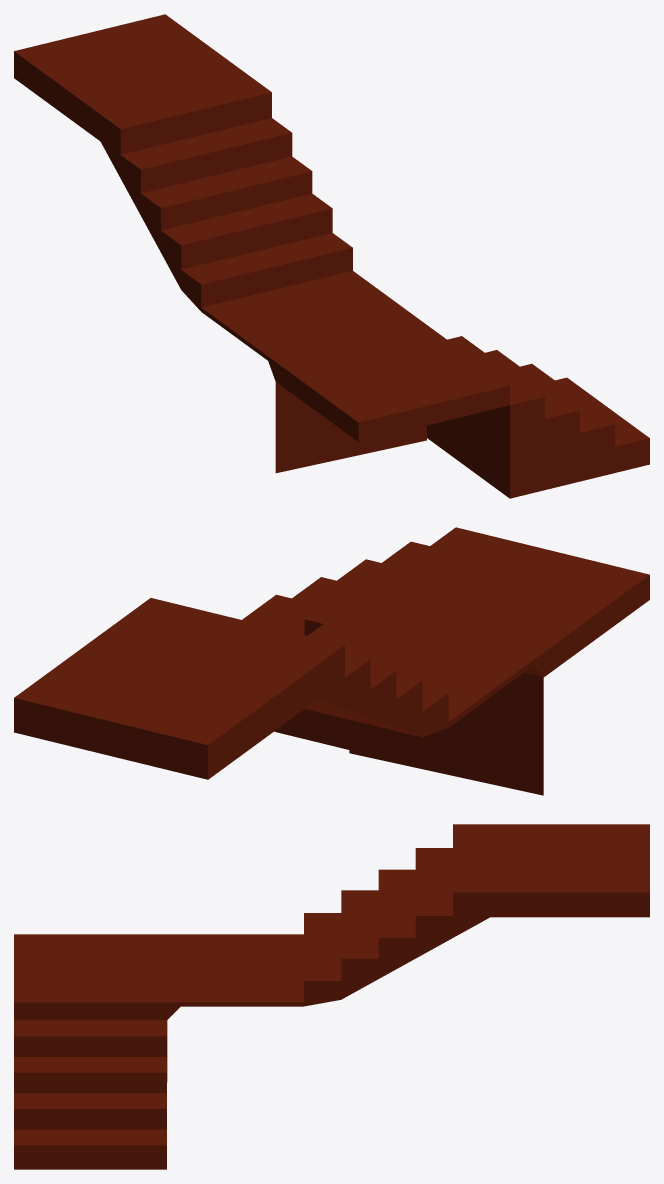
File: LStairs.fbx
3 renders of one model, top to bottom at view 1: azimuth 30°, elevation 25°; view 2: azimuth 150°, elevation 25°; view 3: azimuth 270°, elevation 25°, orthographic. The views are drawn at different scales.
Visible parts, largest first — view 1: LTypeStair003; view 2: LTypeStair003; view 3: LTypeStair003.
Part boxes in pixels (bbox=[...]): LTypeStair003: bbox=[14, 14, 649, 498]; LTypeStair003: bbox=[14, 527, 649, 795]; LTypeStair003: bbox=[14, 824, 649, 1169].
Size of the model in its own units: 370 by 284 by 757.
